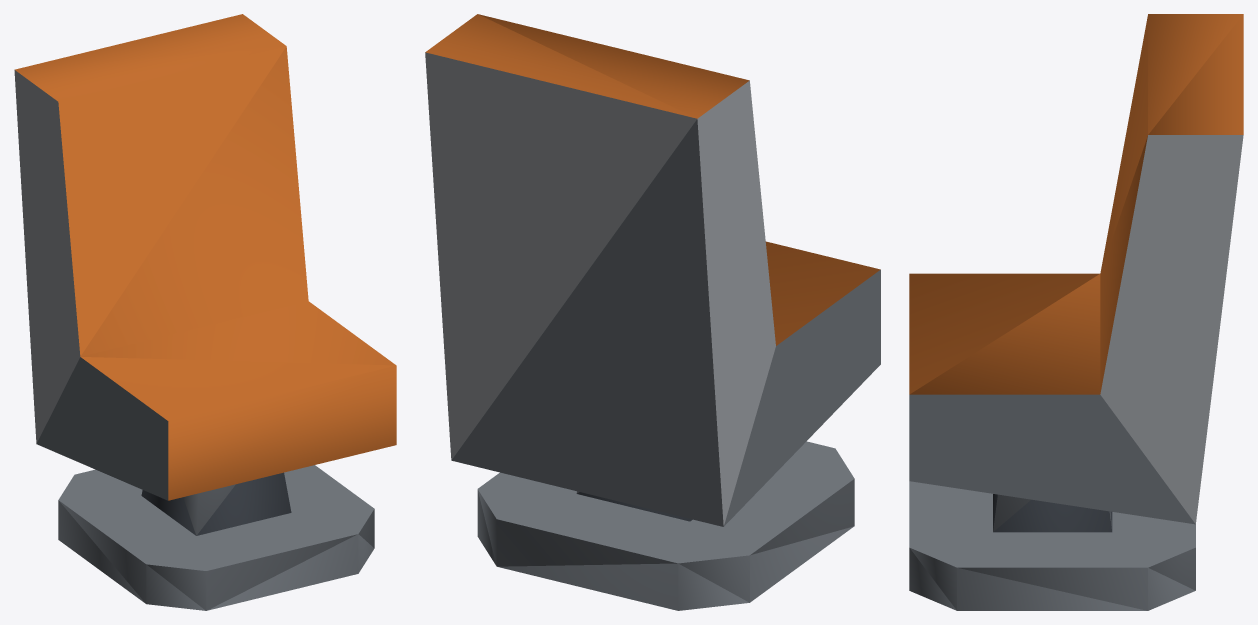
The model's file is Kit_chair.fbx.
The picture shows the model from 3 angles, left to right: view 1: azimuth 30°, elevation 25°; view 2: azimuth 150°, elevation 25°; view 3: azimuth 270°, elevation 25°; orthographic projection. The views are drawn at different scales.
Parts seen in each view (by area): view 1: Kit_chair; view 2: Kit_chair; view 3: Kit_chair.
Part boxes in pixels (x1,y1,x2,y2): Kit_chair: (14,14,396,610); Kit_chair: (425,14,880,610); Kit_chair: (909,14,1243,610).
Bounding box in the file's own units: 0.3 × 0.55 × 0.35.
